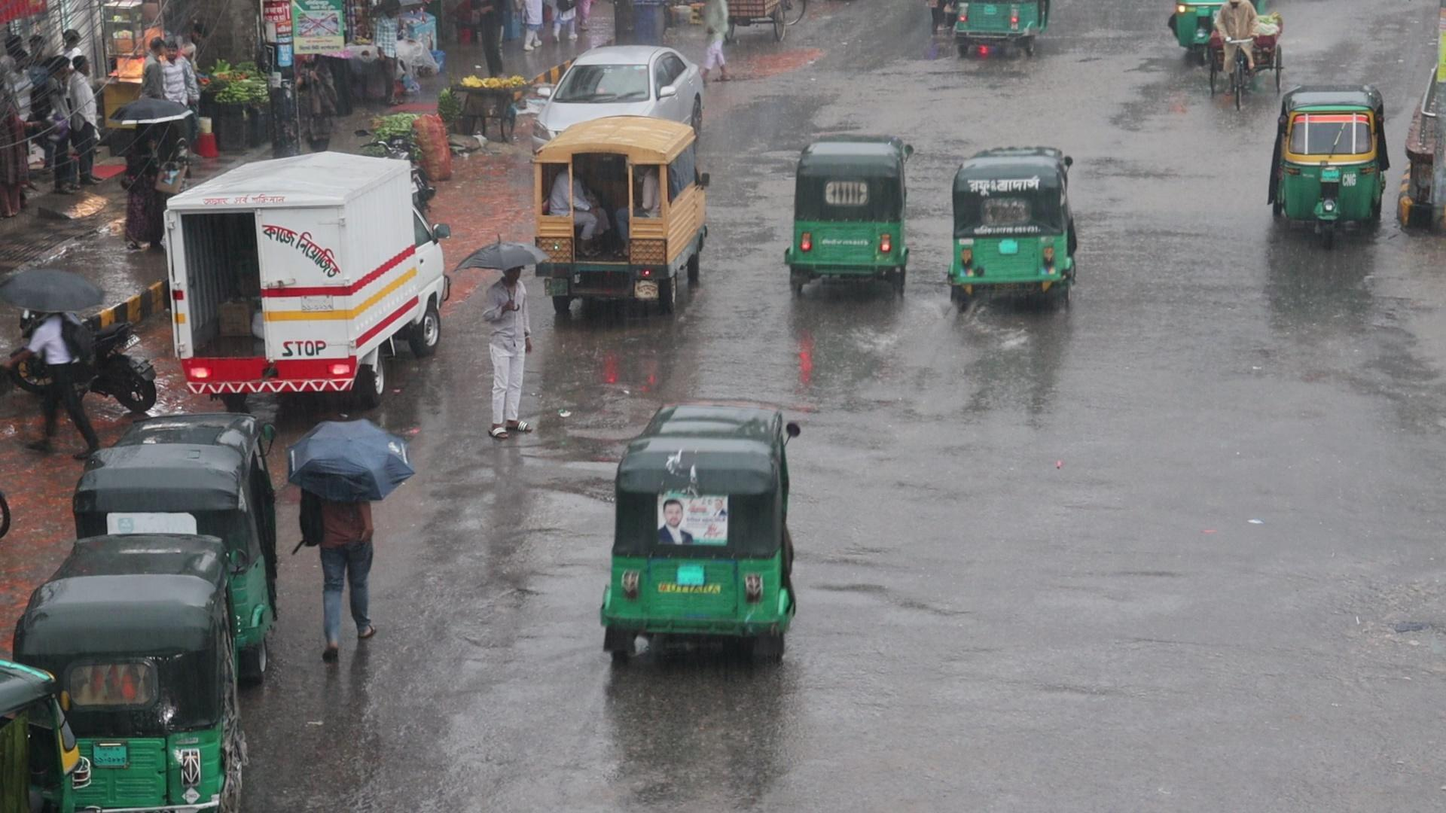Car: (509, 39, 683, 167)
Truck: (522, 114, 717, 325)
